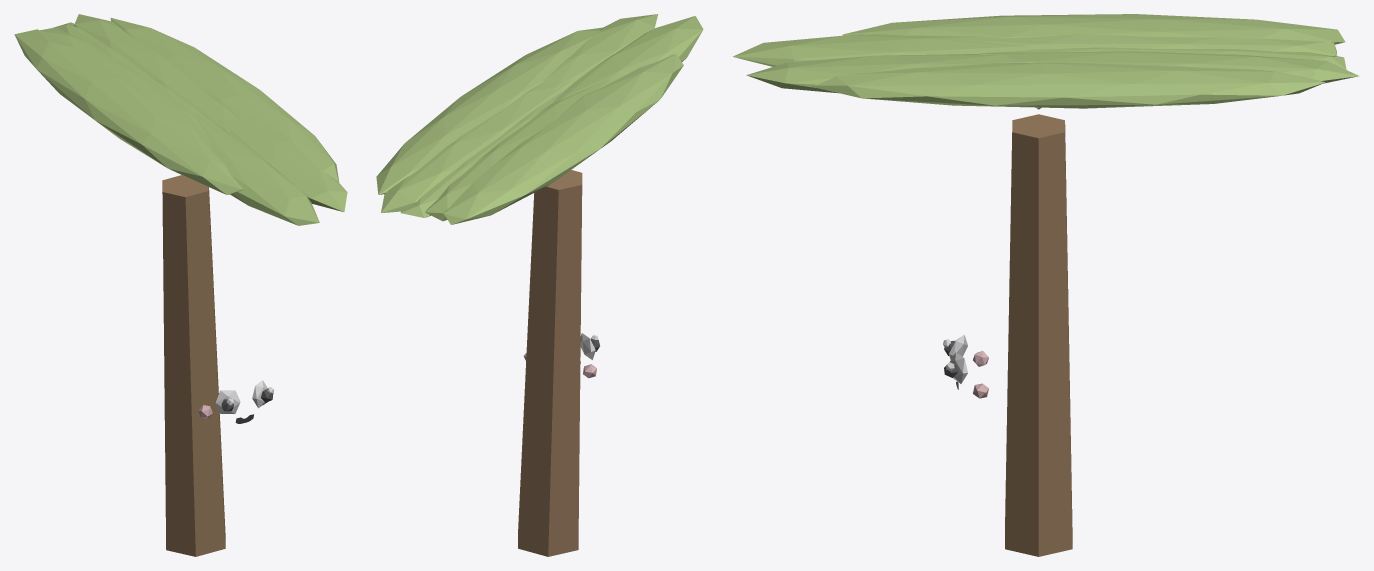
The model's file is wodyetia-bifurcata.glb.
3 renders of one model, left to right at view 1: azimuth 30°, elevation 25°; view 2: azimuth 150°, elevation 25°; view 3: azimuth 270°, elevation 25°, orthographic. The views are drawn at different scales.
Visible parts, largest first — view 1: trunk, frond3, frond0, frond2, frond6, frond1, frond4, frond5; view 2: trunk, frond3, frond0, frond6, frond2, frond4, frond1, frond5; view 3: trunk, frond0, frond3, frond2, frond6, frond4, frond1, frond5.
Boxes of the visible parts, box(x1,y1,x2,y2) form: trunk: box(162, 175, 225, 556); frond3: box(14, 29, 242, 194); frond0: box(110, 18, 339, 182); frond2: box(193, 113, 319, 225); frond6: box(74, 14, 236, 133); frond1: box(218, 117, 347, 211); frond4: box(40, 27, 212, 148); frond5: box(53, 22, 222, 130); trunk: box(518, 170, 582, 556); frond3: box(443, 54, 683, 224); frond0: box(376, 27, 602, 194); frond6: box(381, 81, 573, 212); frond2: box(552, 16, 703, 103); frond4: box(425, 78, 616, 221); frond1: box(541, 14, 658, 90); frond5: box(400, 84, 571, 217); trunk: box(1005, 114, 1072, 556); frond0: box(811, 62, 1325, 108); frond3: box(842, 14, 1345, 44); frond2: box(733, 34, 1036, 66); frond6: box(972, 51, 1359, 83); frond4: box(945, 34, 1337, 56); frond1: box(746, 54, 1009, 93); frond5: box(982, 47, 1346, 69).
Bounding box in the file's own units: 0.2295 × 0.6297 × 0.7216.
